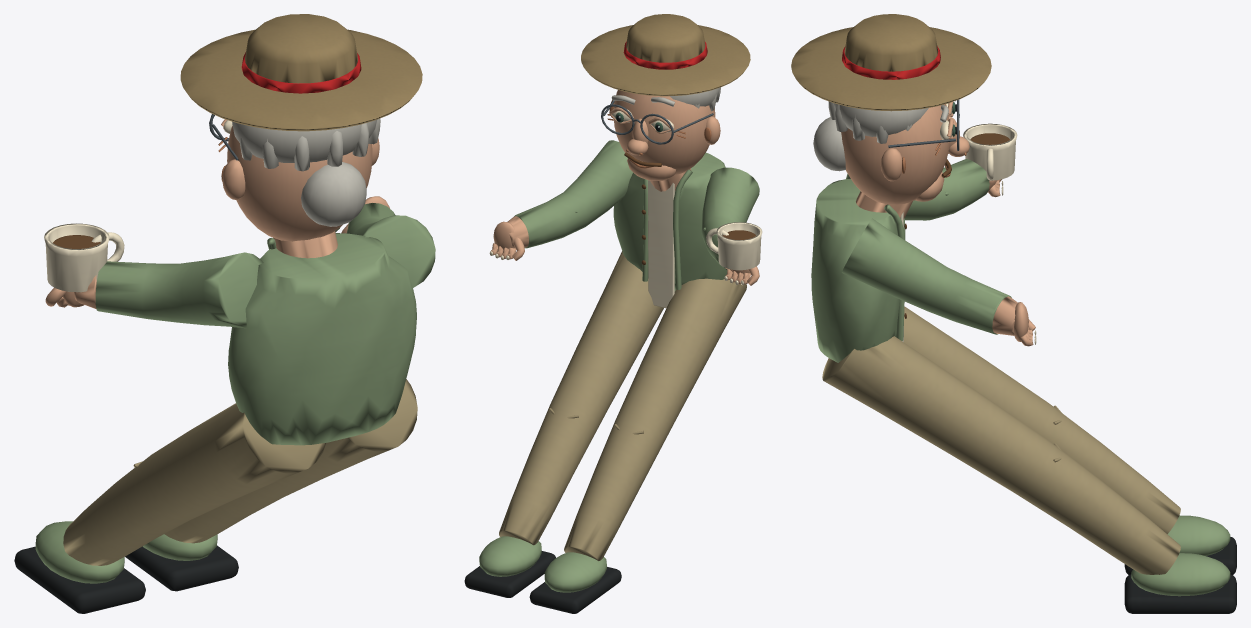
File: NPC_June_Sitting.gltf
3 views of the same model, side by side, from view 1: azimuth 30°, elevation 25°; view 2: azimuth 150°, elevation 25°; view 3: azimuth 270°, elevation 25° (orthographic). The views are drawn at different scales.
Visible parts, largest first — view 1: NPC_June_Sitting__Body, NPC_June_Sitting__Head; view 2: NPC_June_Sitting__Body, NPC_June_Sitting__Head; view 3: NPC_June_Sitting__Body, NPC_June_Sitting__Head.
Part boxes in pixels (bbox=[...]): NPC_June_Sitting__Body: bbox=[14, 196, 435, 613]; NPC_June_Sitting__Head: bbox=[180, 14, 422, 241]; NPC_June_Sitting__Body: bbox=[464, 140, 762, 613]; NPC_June_Sitting__Head: bbox=[581, 14, 750, 180]; NPC_June_Sitting__Body: bbox=[811, 123, 1236, 613]; NPC_June_Sitting__Head: bbox=[791, 14, 991, 204].
Size of the model in its own units: 0.6741 by 1.2 by 0.8712.
Materials: 1 (1 with a texture image).
